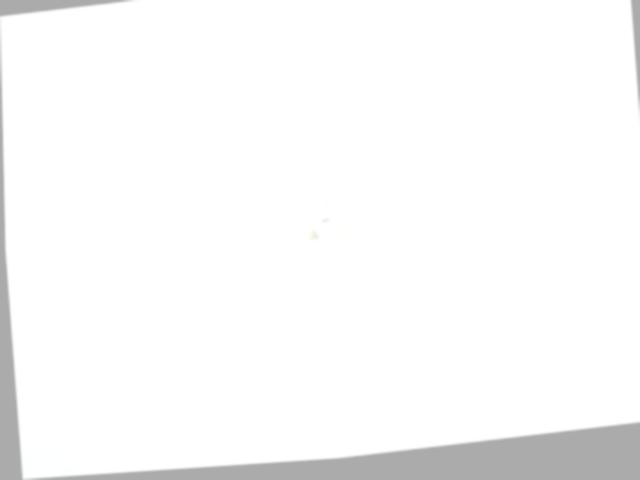uav: (267, 190, 367, 260)
